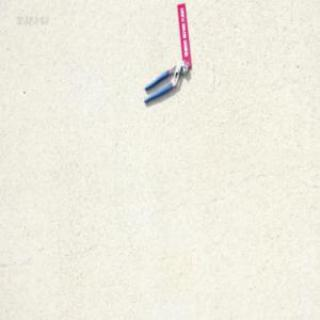LuggageTagtrack_idkeyframe: (177, 1, 191, 71)
Pliertrack_idkeyframe: (142, 61, 187, 106)
